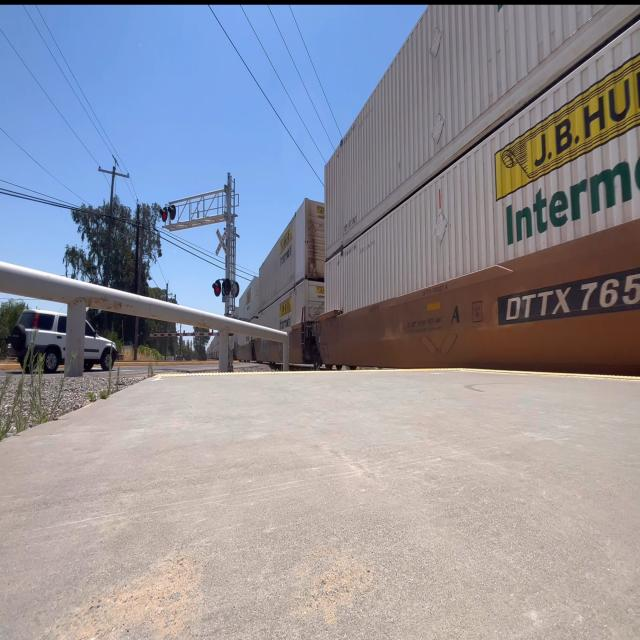container: (322, 18, 640, 322), (322, 0, 640, 264)
flatcar: (322, 218, 640, 376)
